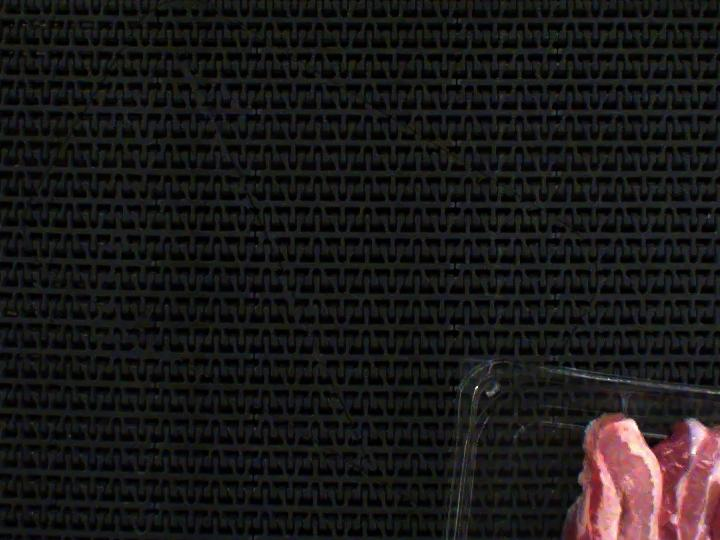packaging-error: (612, 383, 634, 416)
